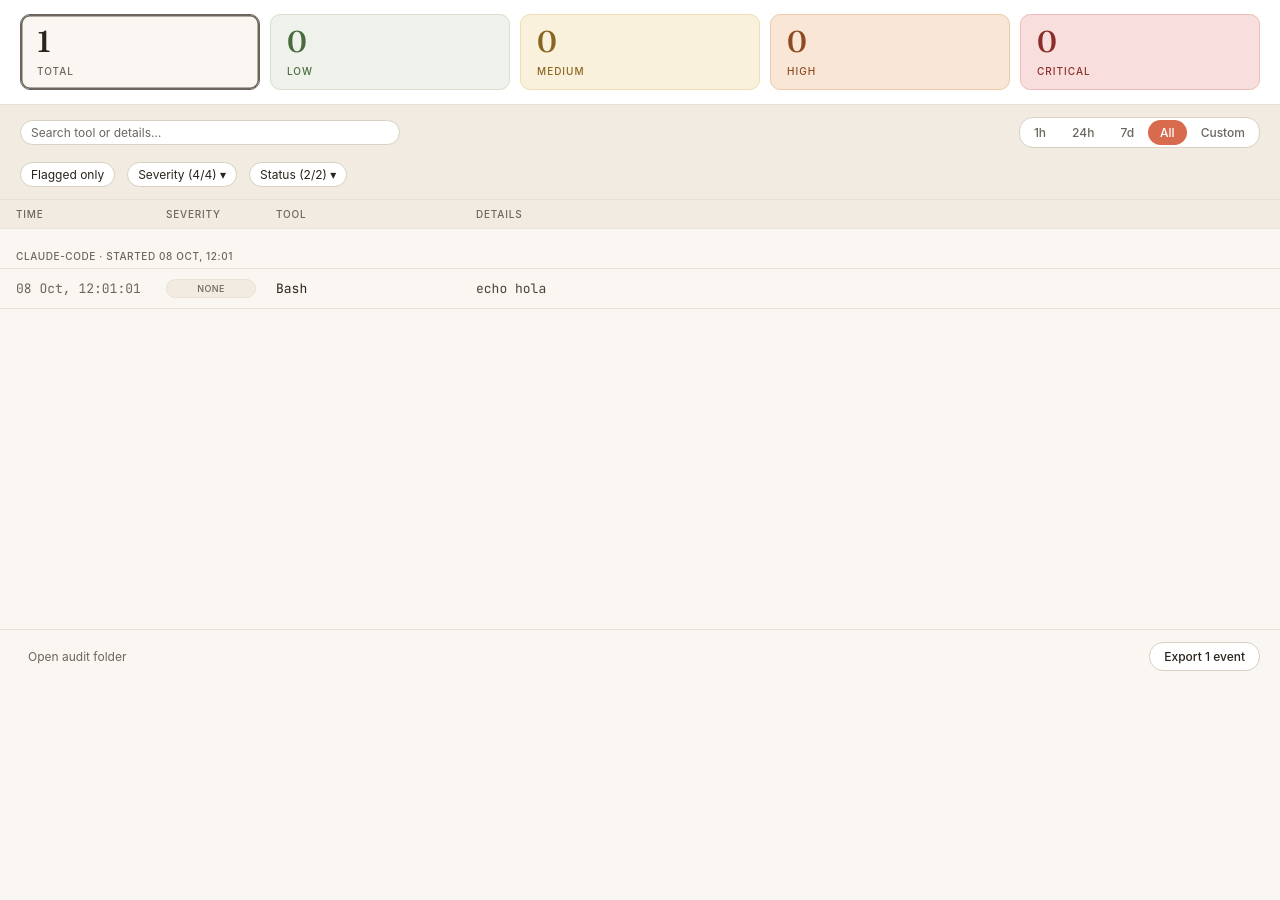
Scenario: CC empty state (dogfood 22/07) › Clear filters restores the list and empties the search box
Check: the text "Bash" is shown, box [276,280,307,297]
Type "adsfas" into the search field labelled "Search tool or details" at (210, 132), box [20,120,400,145]
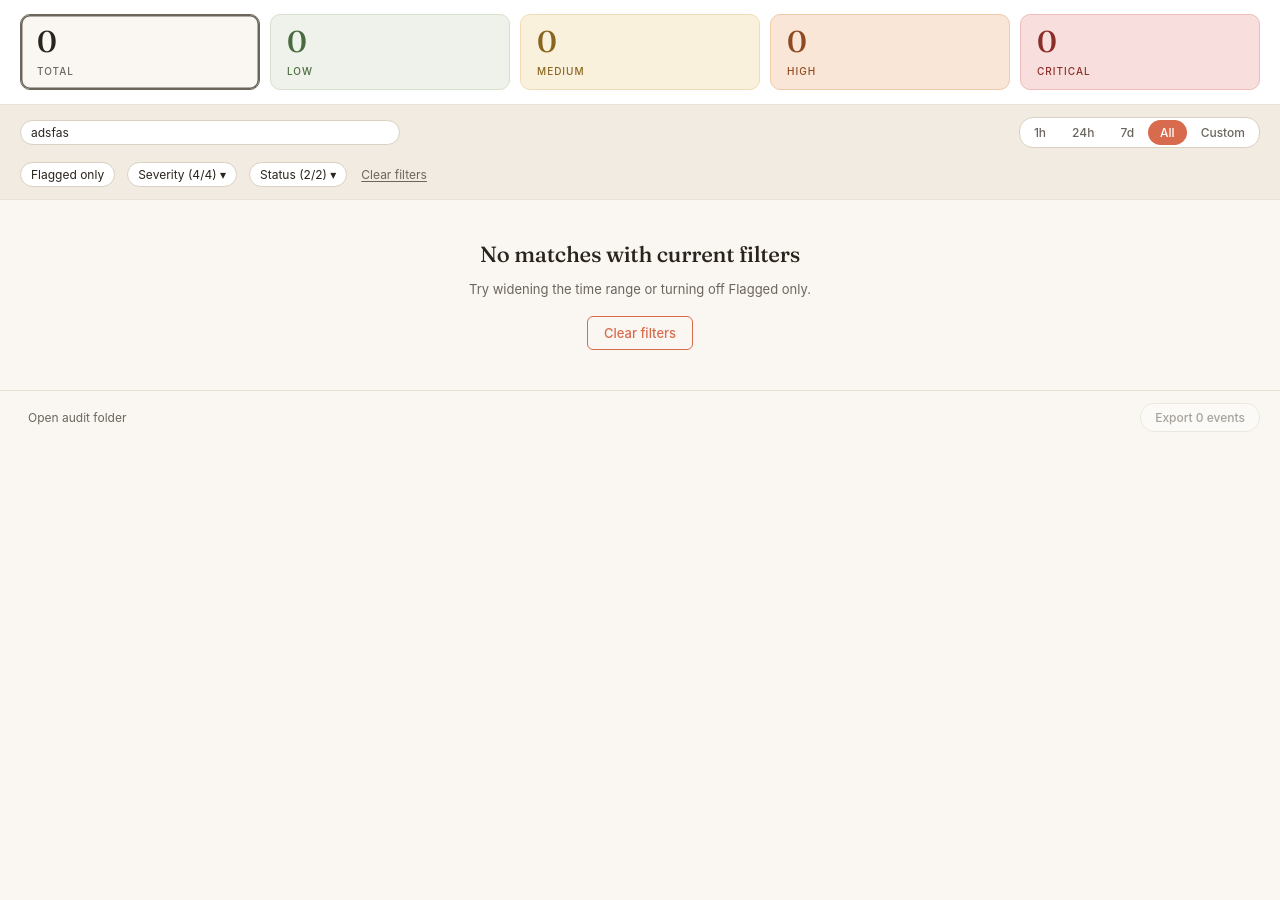
Click the button "Clear filters" below "No matches with current filters" at (640, 332), box [587,316,693,350]
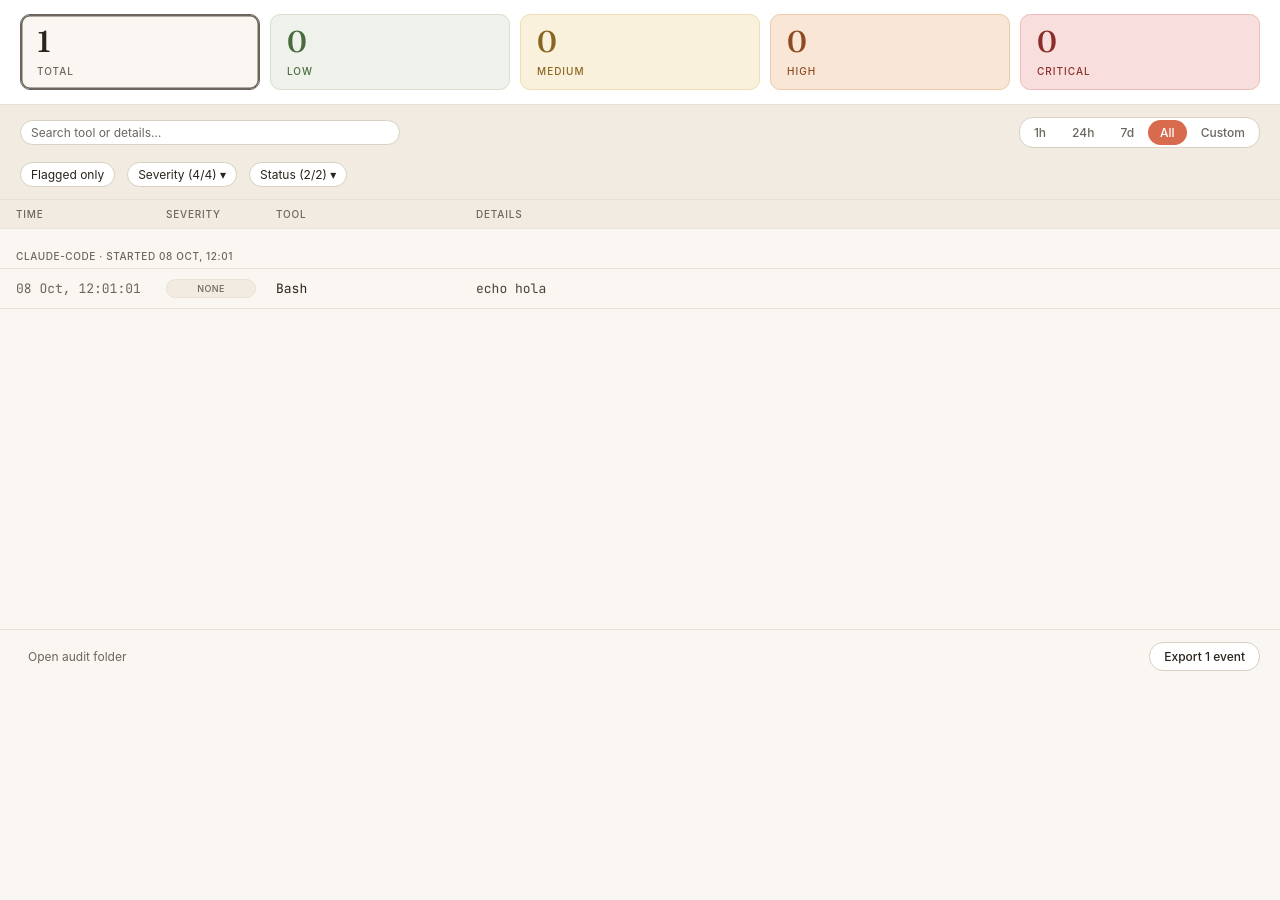
Check: the text "Bash" is shown, box [276,280,307,297]
Check: the search field labelled "Search tool or details" is empty, box [20,120,400,145]
